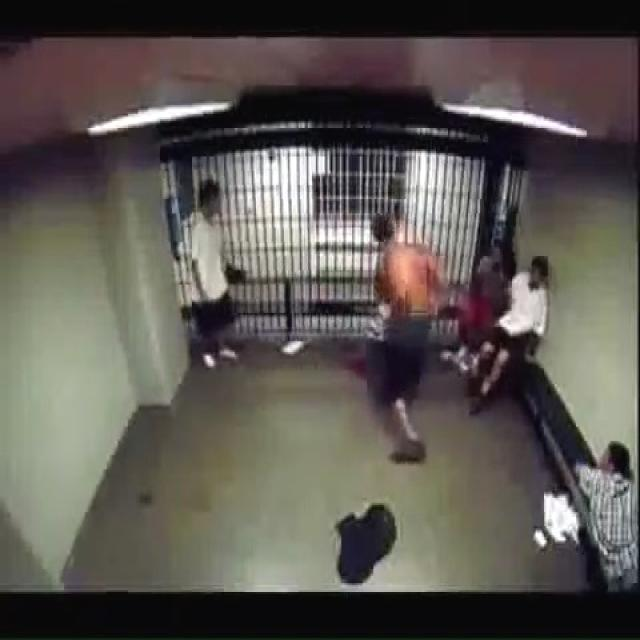fight: (363, 205, 447, 468)
